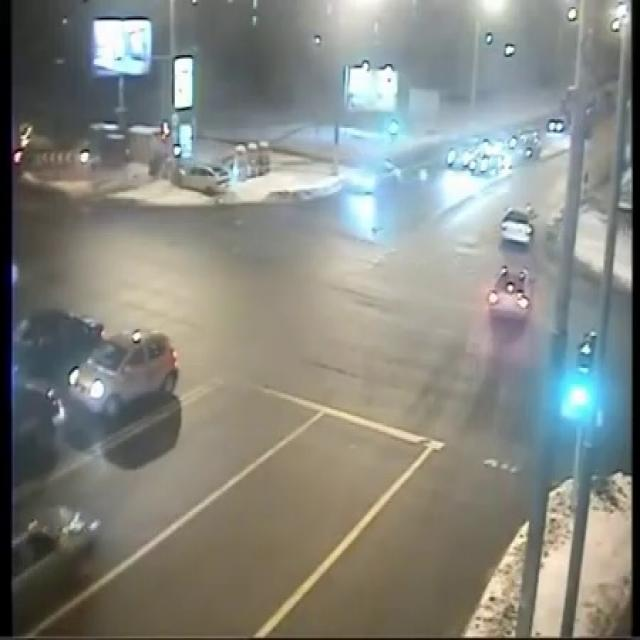accident: (156, 152, 234, 200)
